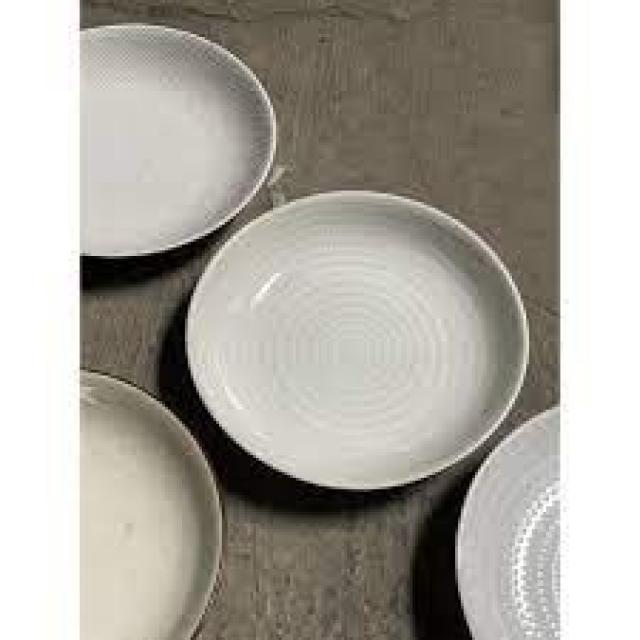Plate: (168, 180, 537, 512)
